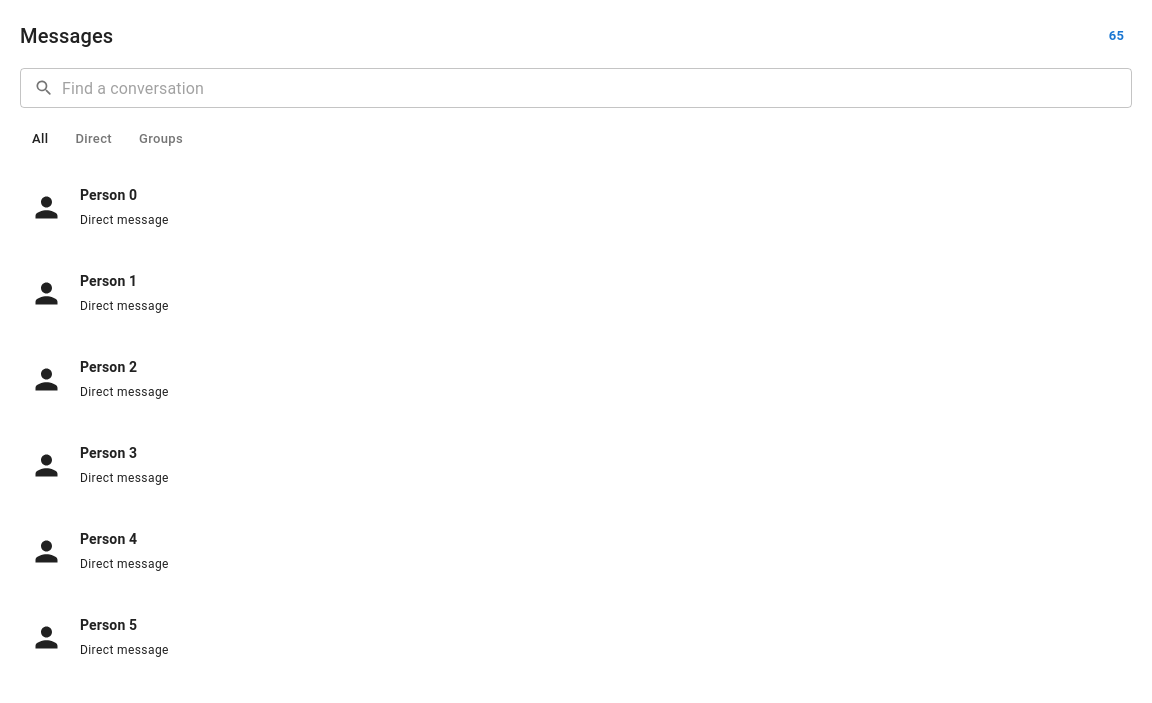
Test case: workspace conversation list › searches beyond the initial render window
Step 1. Type "Person 64" into the field → (597, 88), box [62, 68, 1132, 108]
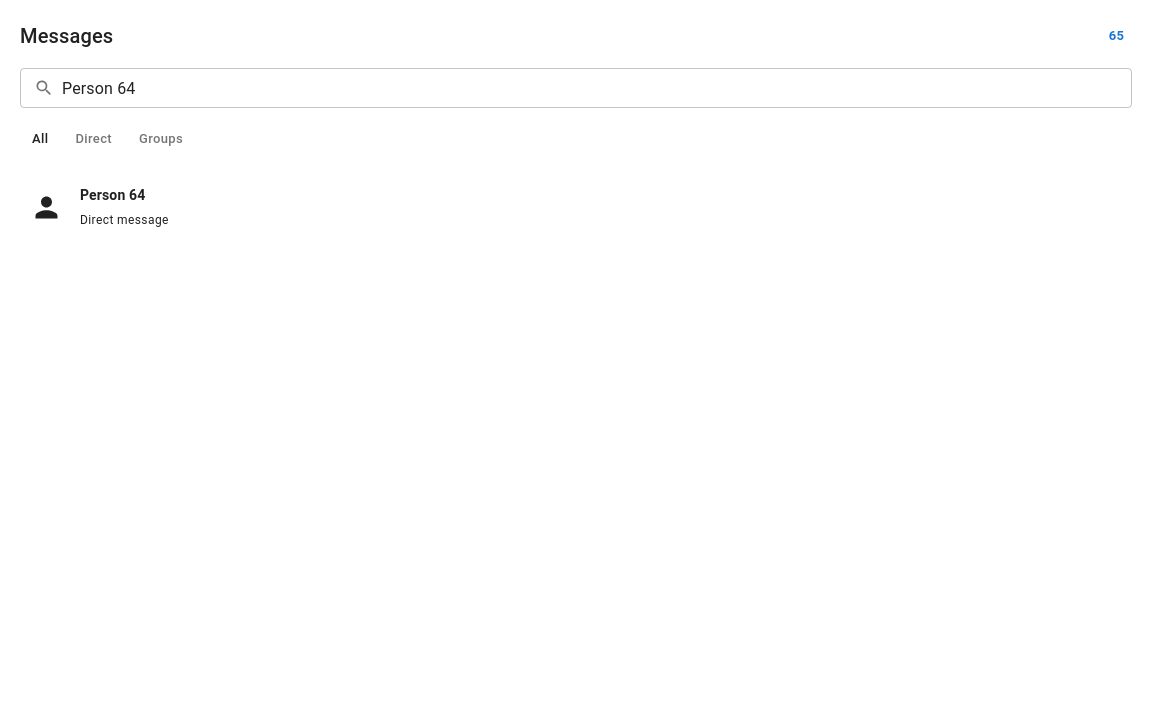
Check: the link "Person 64 Direct message" is shown, box [30, 187, 169, 227]
